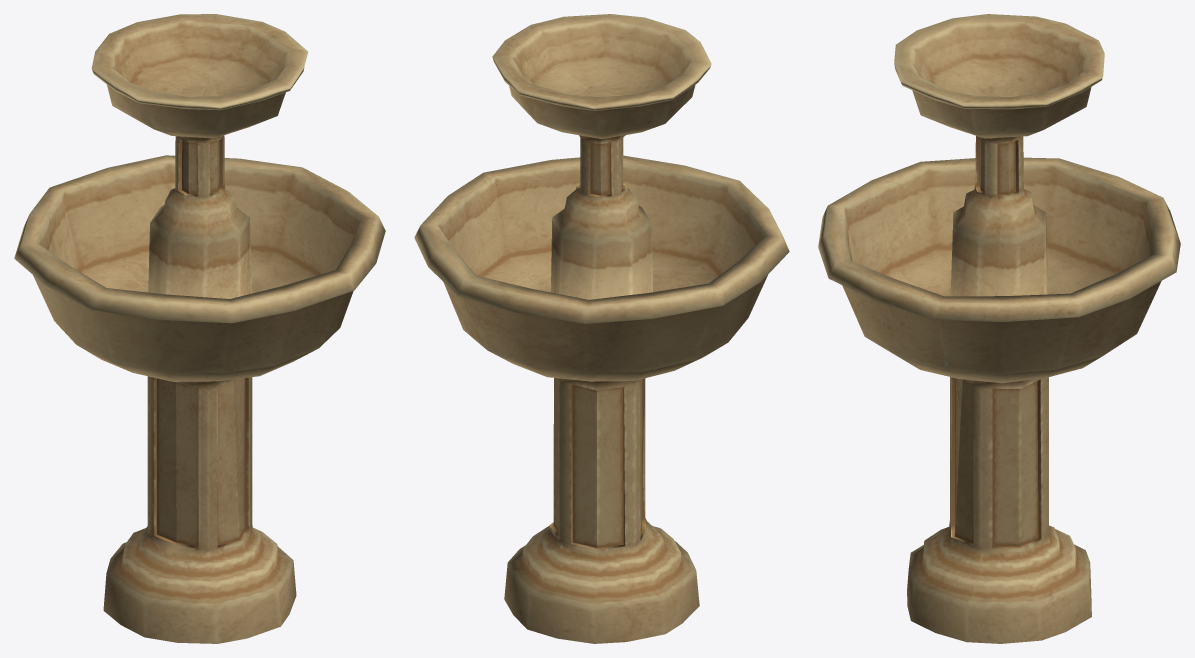
Rendered from fountain_17_April_v2.fbx.
3 renders of one model, left to right at view 1: azimuth 30°, elevation 25°; view 2: azimuth 150°, elevation 25°; view 3: azimuth 270°, elevation 25°, orthographic.
Parts seen in each view (by area): view 1: pPlane3; view 2: pPlane3; view 3: pPlane3.
Part boxes in pixels (<box>): pPlane3: <box>14,14,385,643</box>; pPlane3: <box>414,14,789,643</box>; pPlane3: <box>818,14,1180,643</box>.
Bounding box in the file's own units: 11.36 × 18.89 × 11.36.
